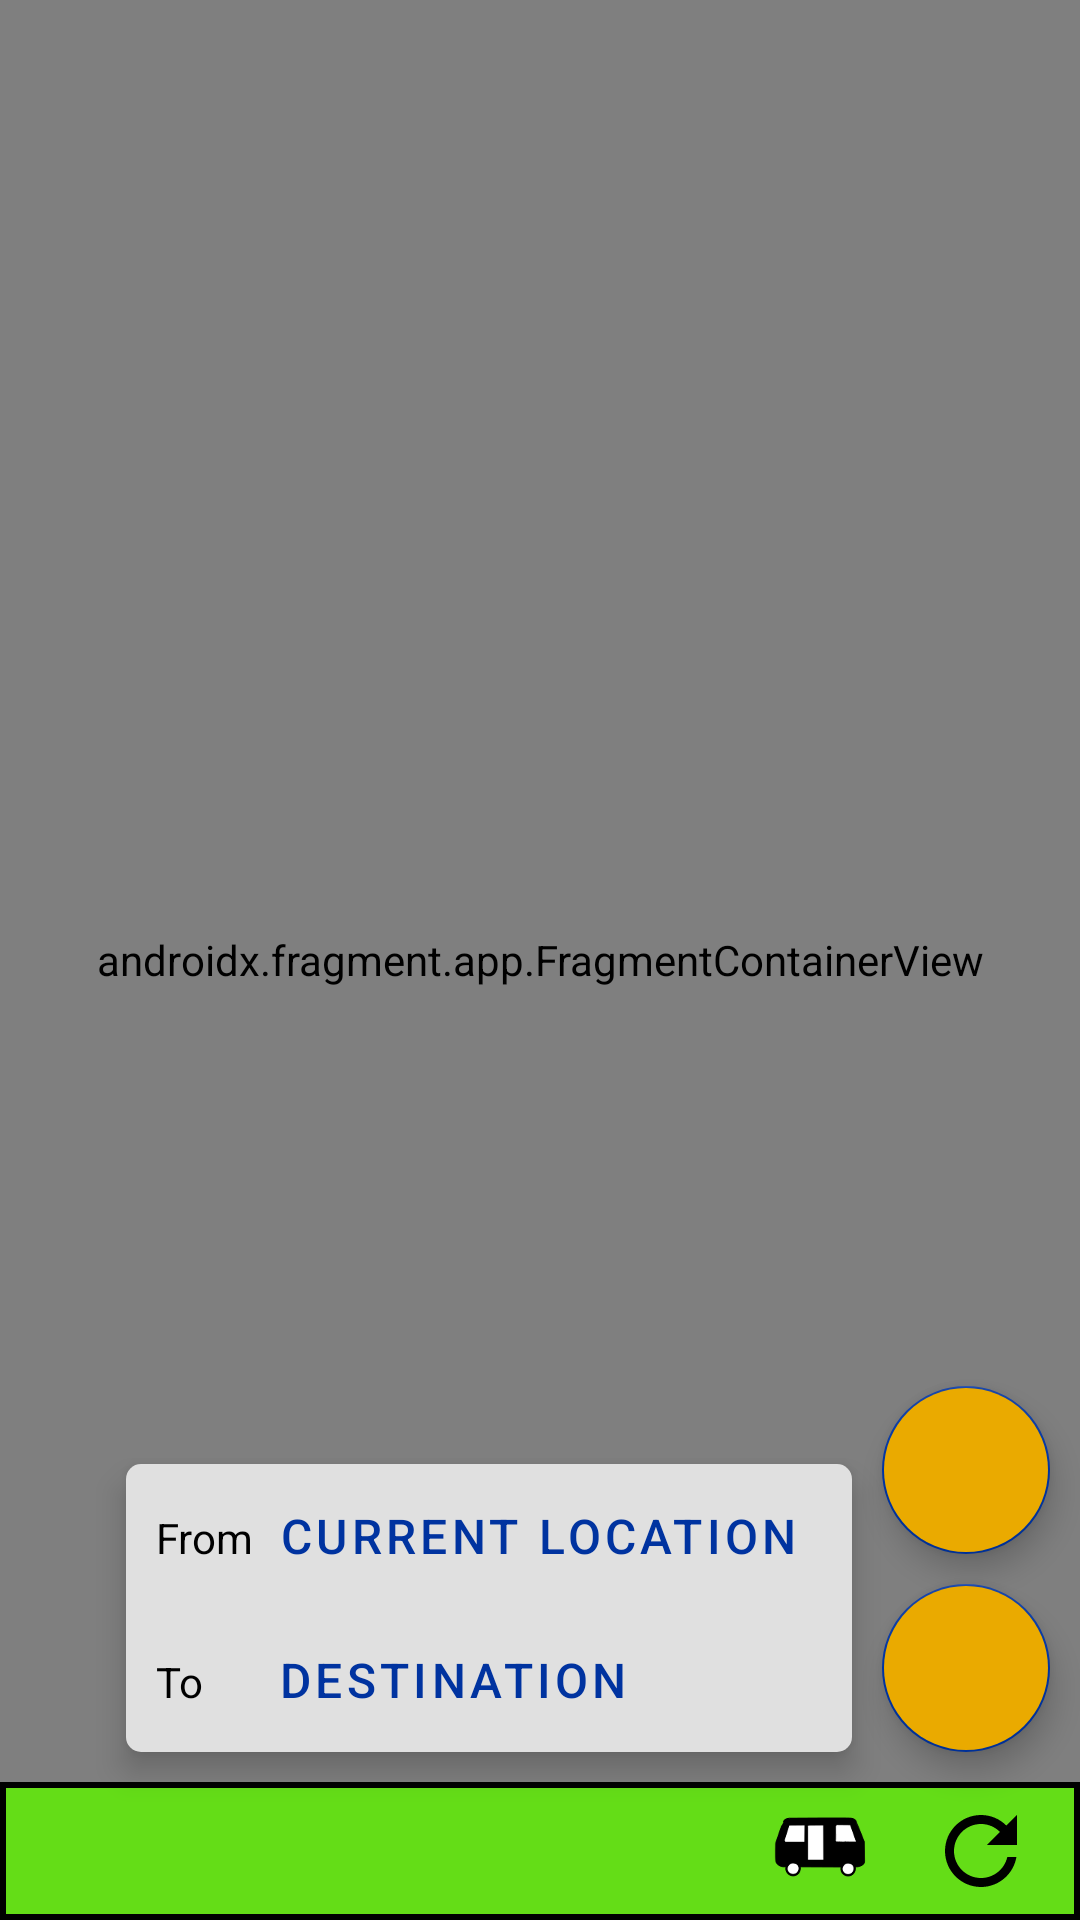

Named icons in this screenshot (1080×1920) and their centers, point (x, y):
refresh: point (981, 1851)
